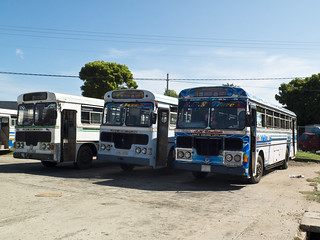bus: (173, 85, 298, 182), (13, 91, 100, 168), (97, 88, 174, 172)
